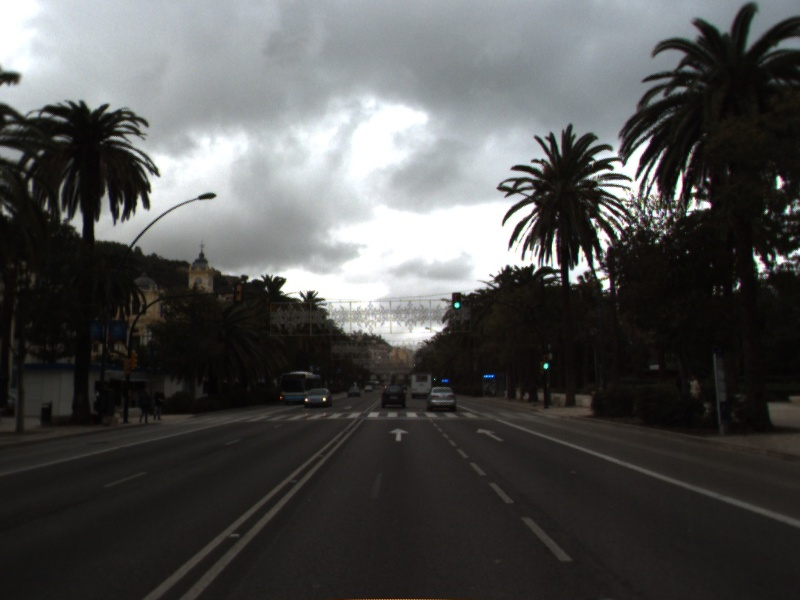STRAIGHT: (474, 426, 507, 444), (386, 426, 411, 444)
